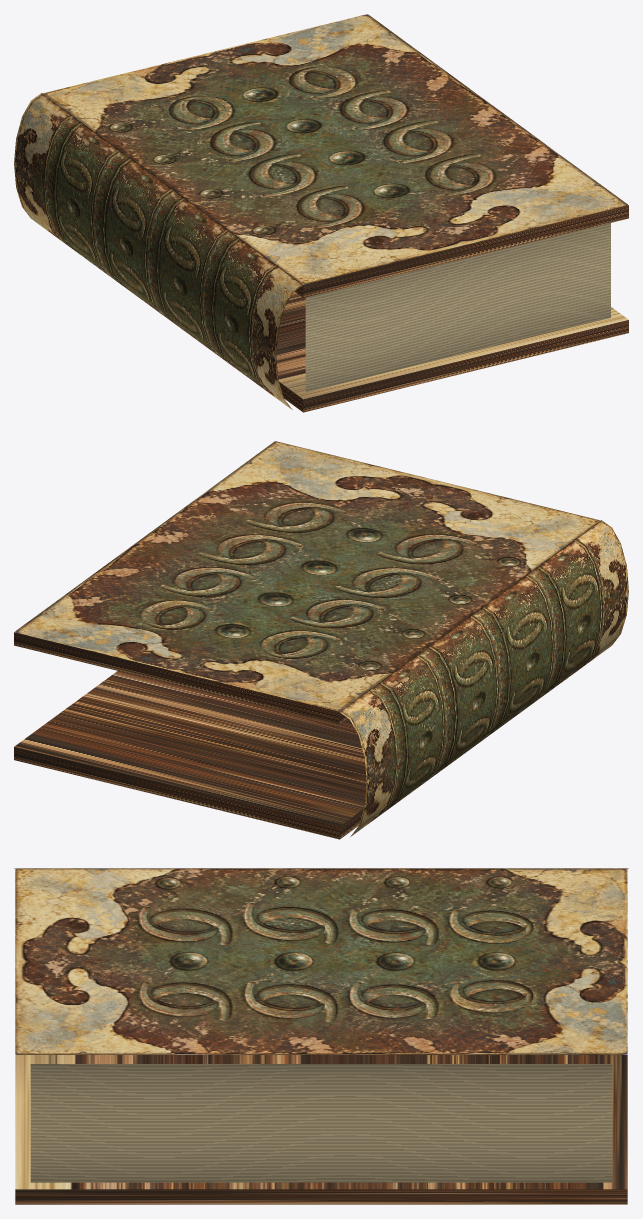
File: item_book5.glb
3 views of the same model, one above another, from view 1: azimuth 30°, elevation 25°; view 2: azimuth 150°, elevation 25°; view 3: azimuth 270°, elevation 25° (orthographic). The views are drawn at different scales.
Visible parts, largest first — view 1: book5; view 2: book5; view 3: book5.
Part boxes in pixels (x1,y1,x2,y2): book5: [14, 14, 628, 412]; book5: [14, 441, 628, 839]; book5: [14, 868, 628, 1204].
Size of the model in its own units: 0.7808 by 0.27 by 1.
Materials: 1 (1 with a texture image).
